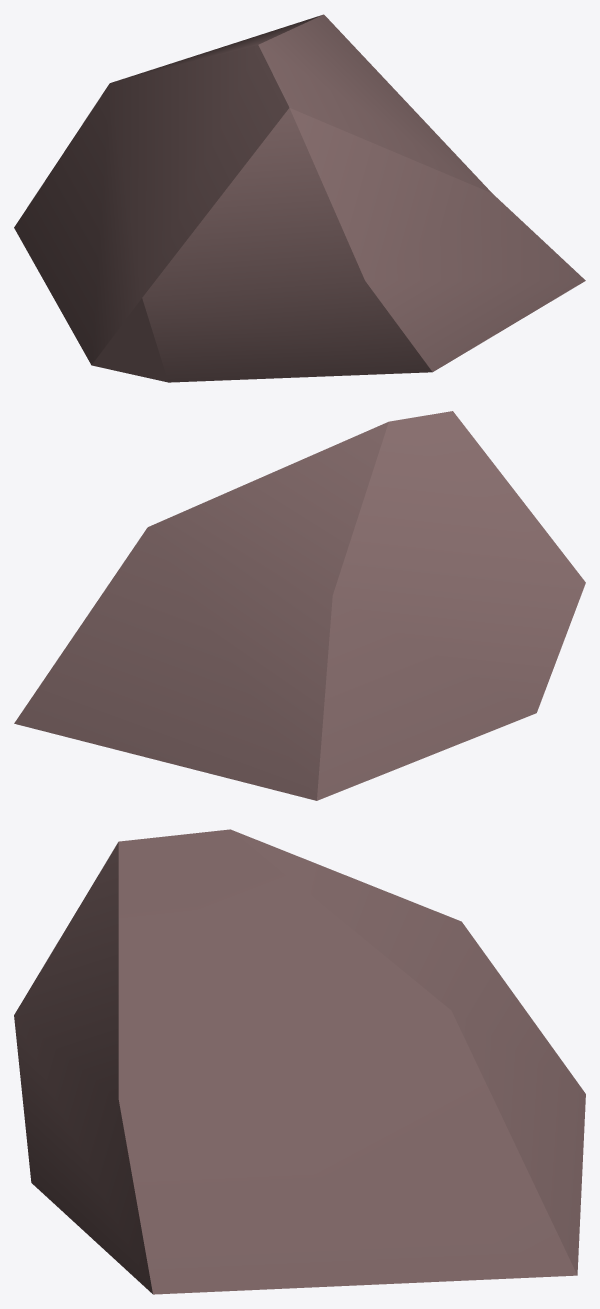
Rendered from beachrock4.glb.
The picture shows the model from 3 angles, top to bottom: view 1: azimuth 30°, elevation 25°; view 2: azimuth 150°, elevation 25°; view 3: azimuth 270°, elevation 25°; orthographic projection. The views are drawn at different scales.
Visible parts, largest first — view 1: Cube.002; view 2: Cube.002; view 3: Cube.002.
Part boxes in pixels (x1,y1,x2,y2): Cube.002: (14,14,585,382); Cube.002: (14,411,585,800); Cube.002: (14,829,585,1294).
Size of the model in its own units: 0.0819 by 0.0479 by 0.0805.
Materials: 1 (1 with a texture image).
